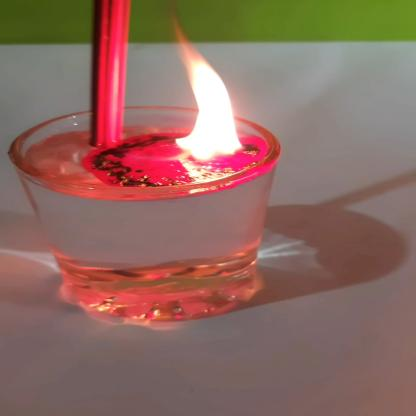Fire: (177, 42, 252, 159)
